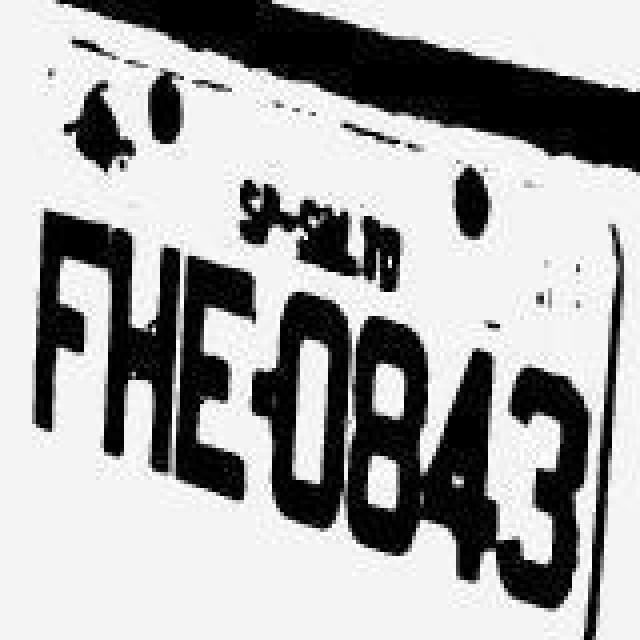3: (496, 364, 592, 612)
4: (420, 342, 500, 586)
8: (346, 314, 430, 566)
E: (172, 252, 260, 508)
F: (30, 206, 114, 450)
H: (102, 224, 186, 480)
O: (264, 288, 352, 536)
